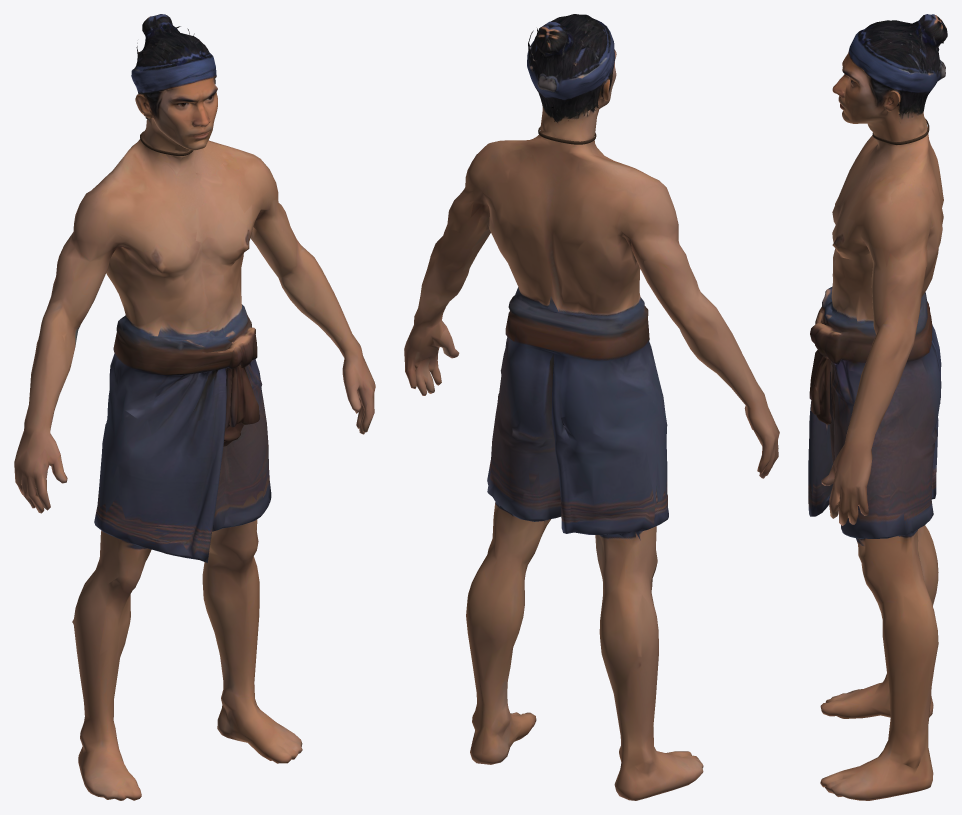
Rendered from prajurit-untuk-mixamo.fbx.
The picture shows the model from 3 angles, left to right: view 1: azimuth 30°, elevation 25°; view 2: azimuth 150°, elevation 25°; view 3: azimuth 270°, elevation 25°; orthographic projection. The views are drawn at different scales.
Visible parts, largest first — view 1: prajurit; view 2: prajurit; view 3: prajurit.
Boxes of the visible parts, x1,y1,x2,y2 form: prajurit: (14, 14, 375, 800); prajurit: (404, 14, 779, 800); prajurit: (808, 14, 947, 800).
Bounding box in the file's own units: 0.8539 × 1.68 × 0.2877.
Materials: 1 (1 with a texture image).
